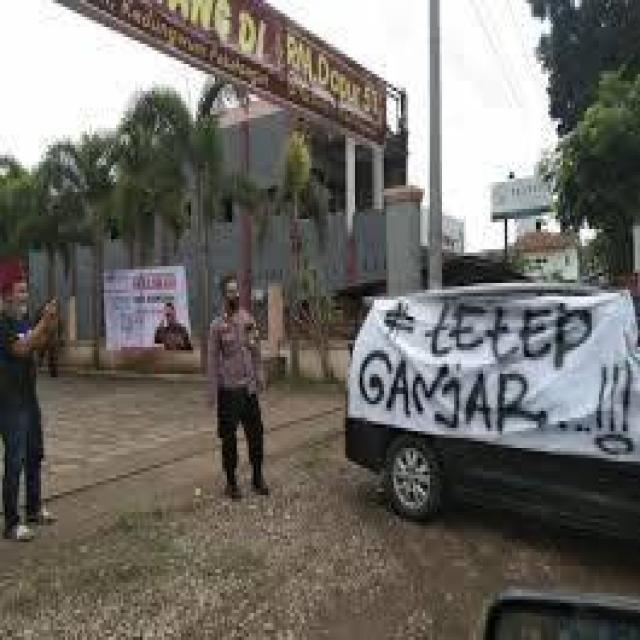nonspitting: (355, 347, 550, 436), (423, 296, 599, 372), (592, 357, 634, 460), (382, 300, 414, 346)
